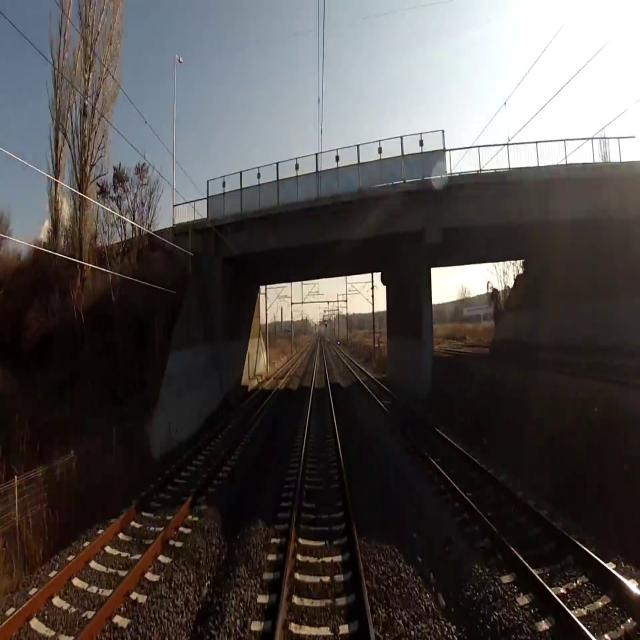rail-track: (341, 353, 640, 639), (0, 360, 294, 639), (285, 338, 362, 597), (365, 613, 369, 639)
